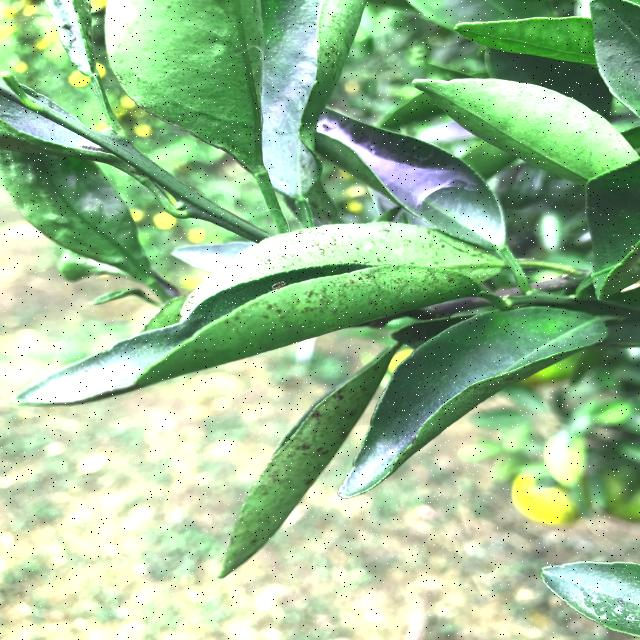melanose: (190, 343, 404, 563), (106, 267, 486, 382), (149, 215, 504, 338)
